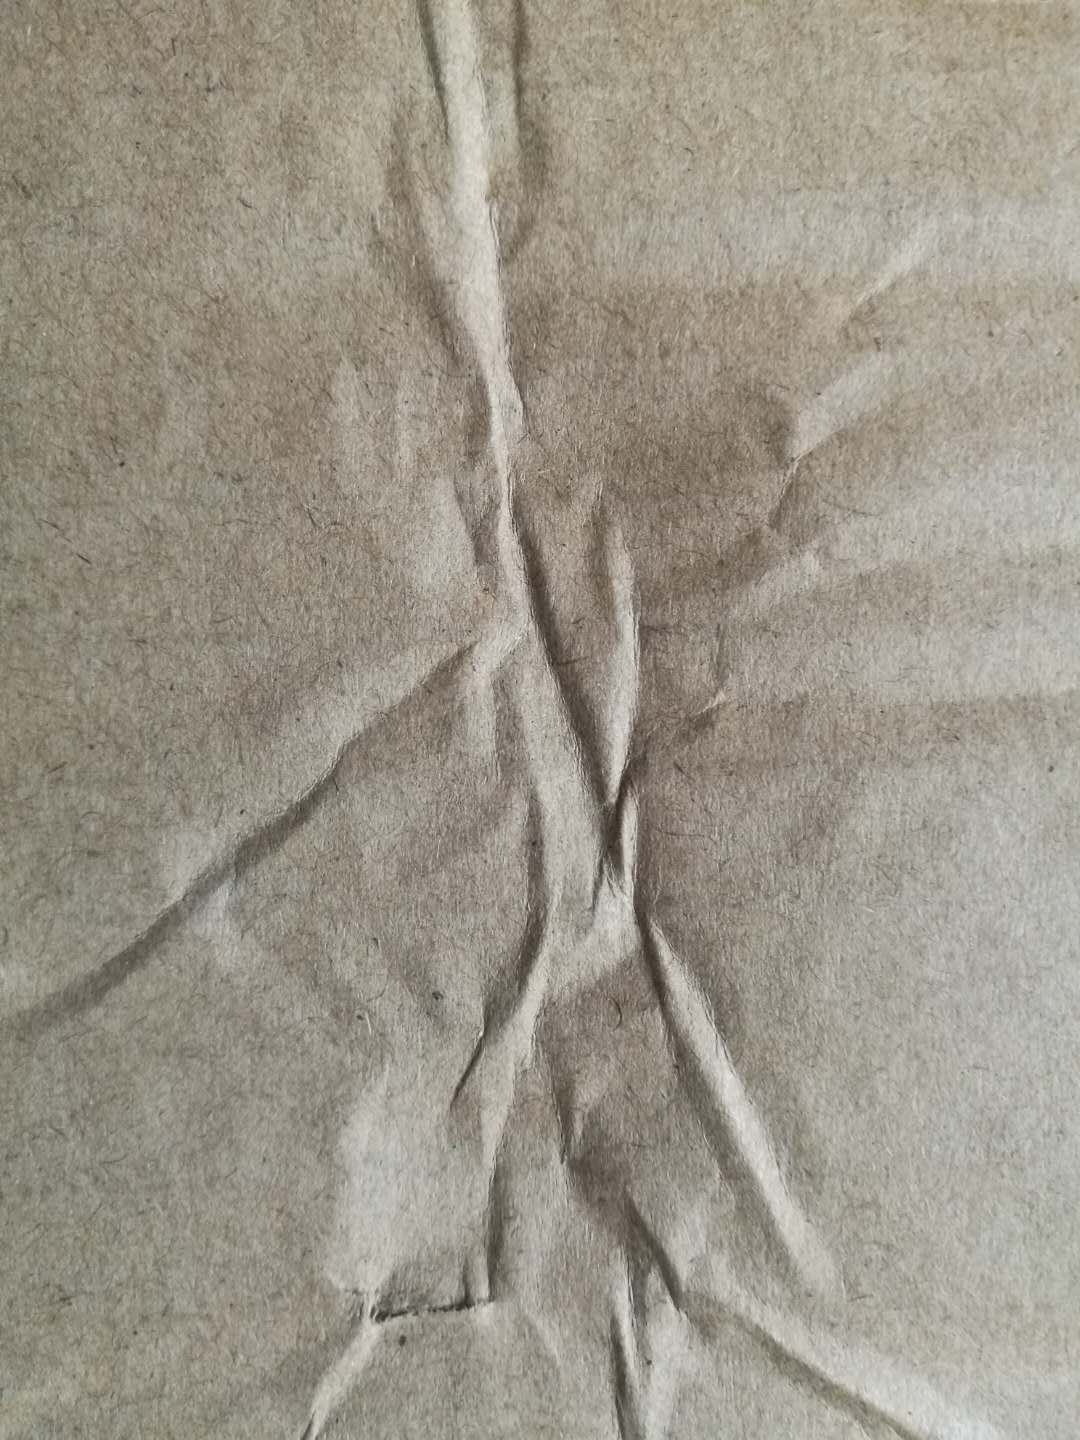defect: (6, 5, 1077, 1440)
